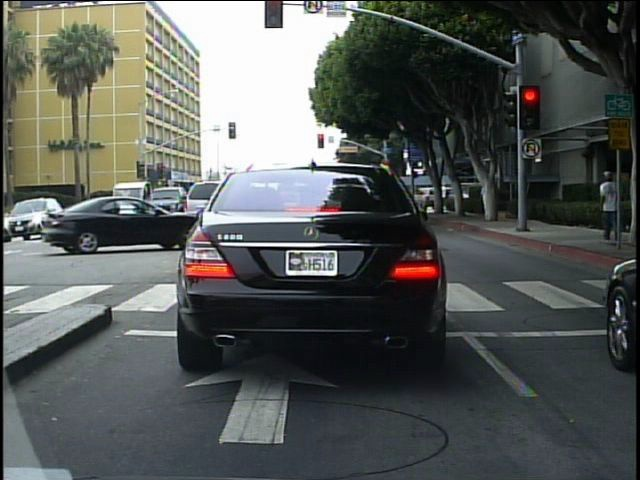person: (597, 167, 620, 243), (476, 180, 491, 218), (437, 179, 451, 212), (630, 165, 633, 256)
